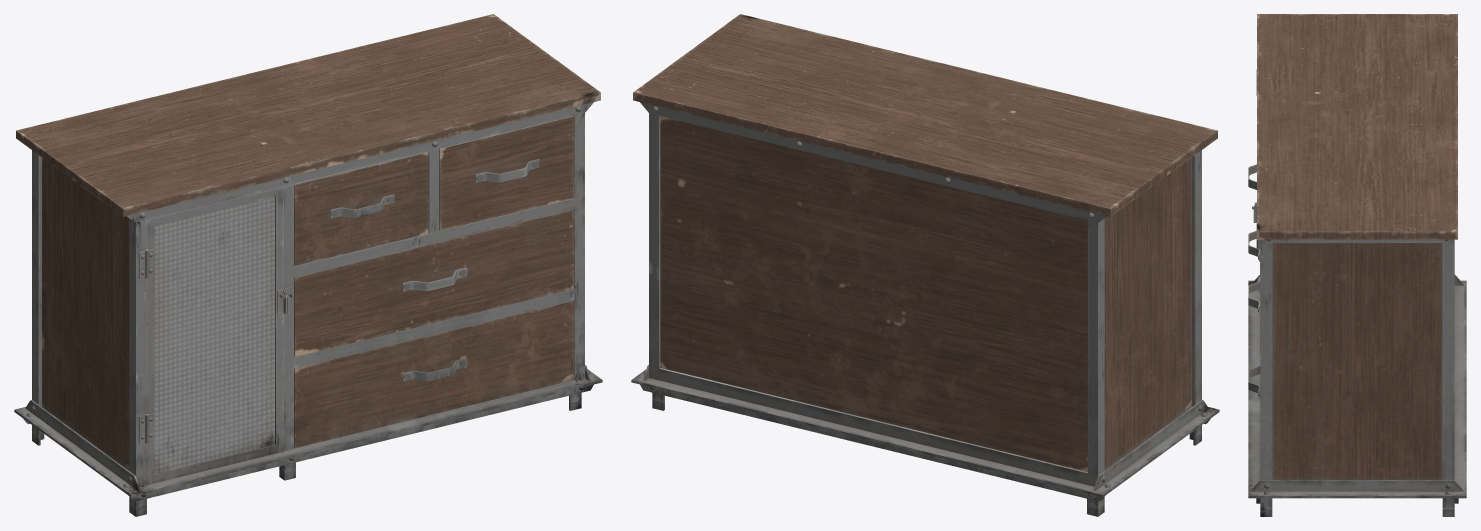
The model's file is table.gltf.
The picture shows the model from 3 angles, left to right: view 1: azimuth 30°, elevation 25°; view 2: azimuth 150°, elevation 25°; view 3: azimuth 270°, elevation 25°; orthographic projection. The views are drawn at different scales.
Parts seen in each view (by area): view 1: WoodenTable_03_body, WoodenTable_03_door, WoodenTable_03_drawer03, WoodenTable_03_drawer04, WoodenTable_03_drawer02, WoodenTable_03_drawer01; view 2: WoodenTable_03_body; view 3: WoodenTable_03_body.
Part boxes in pixels (left/top/right/bottom): WoodenTable_03_body: left=14, top=14, right=602, bottom=516; WoodenTable_03_door: left=145, top=186, right=292, bottom=485; WoodenTable_03_drawer03: left=294, top=209, right=574, bottom=357; WoodenTable_03_drawer04: left=294, top=300, right=574, bottom=448; WoodenTable_03_drawer02: left=439, top=116, right=574, bottom=230; WoodenTable_03_drawer01: left=294, top=151, right=428, bottom=266; WoodenTable_03_body: left=631, top=14, right=1219, bottom=516; WoodenTable_03_body: left=1248, top=14, right=1466, bottom=516.
Size of the model in its own units: 1.33 by 0.8301 by 0.5617.
Materials: 1 (1 with a texture image).
